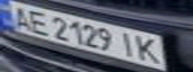1: (66, 19, 84, 45)
2: (45, 15, 72, 42), (78, 21, 100, 48)
9: (93, 25, 118, 53)
A: (3, 2, 36, 29)
E: (24, 8, 54, 36)
I: (115, 29, 139, 58)
K: (133, 34, 166, 64)
